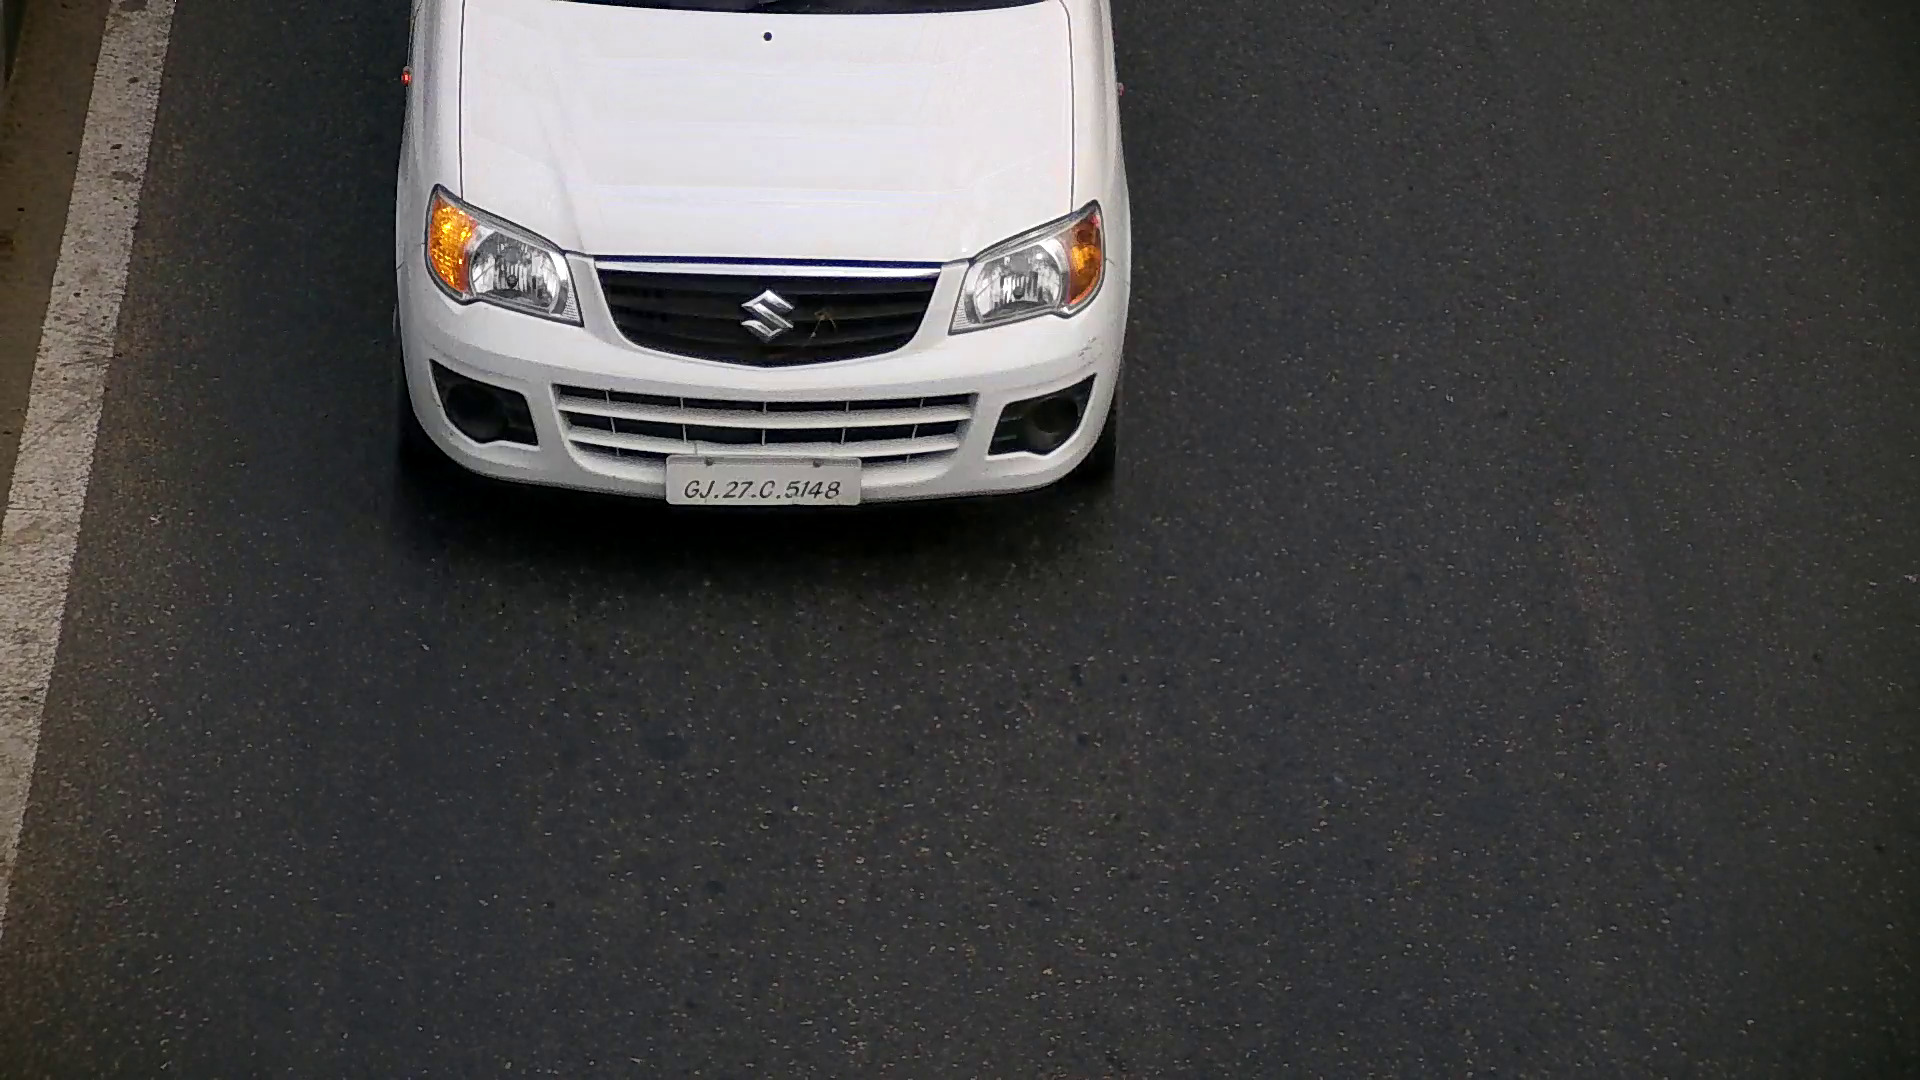numberplate: (654, 450, 865, 513)
